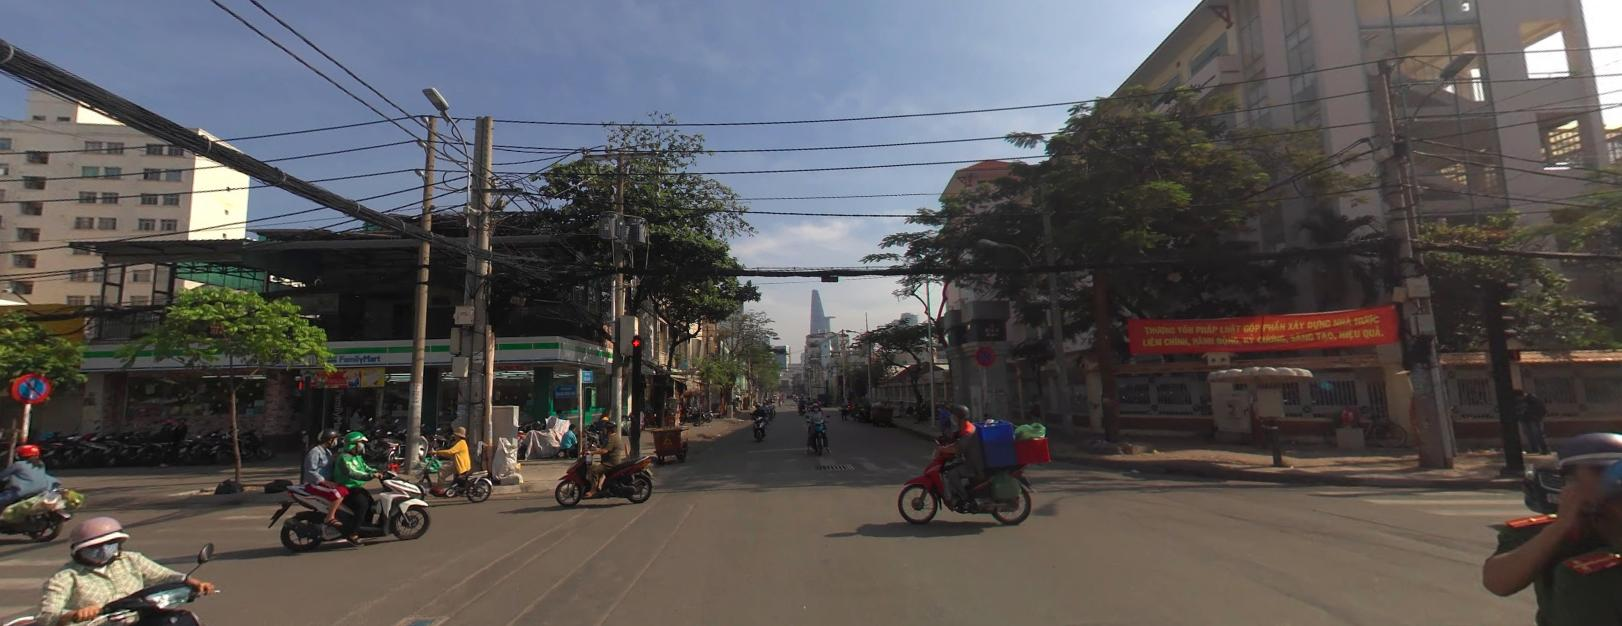Cam dung va do: (12, 371, 49, 403), (977, 345, 995, 365)
